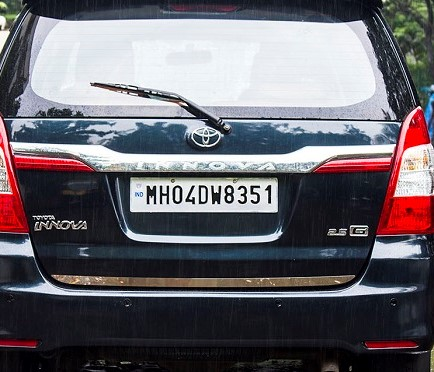MH04DW8351: (129, 177, 277, 213)
